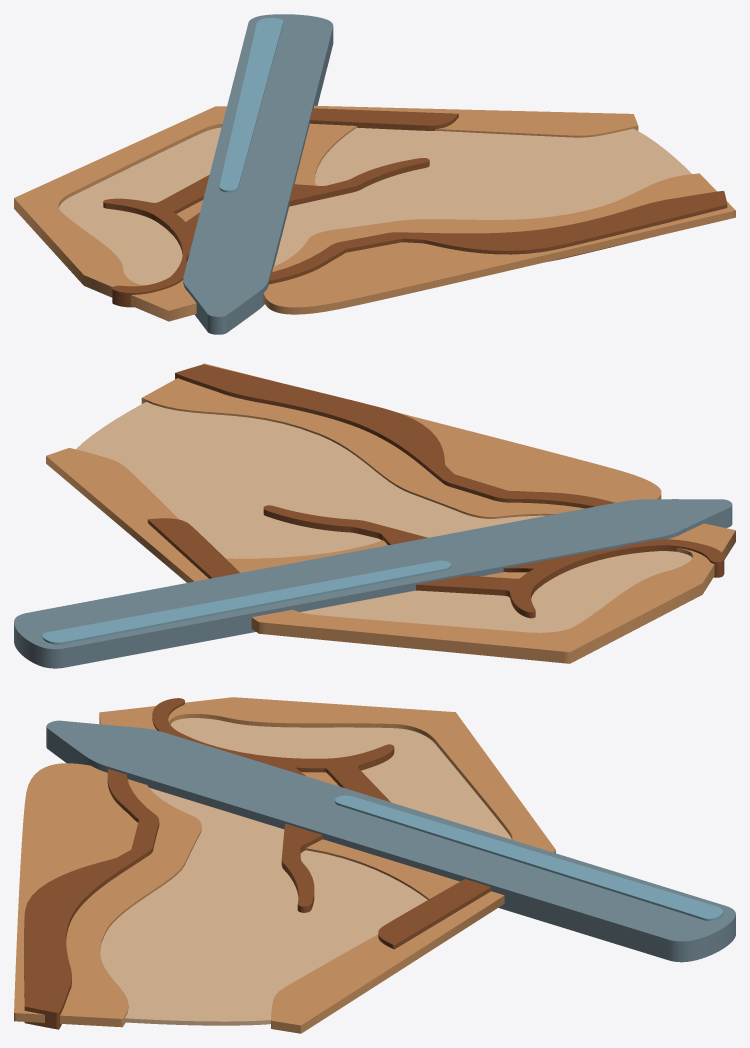
Rendered from emoji_u270d_1f3fc.glb.
3 renders of one model, top to bottom at view 1: azimuth 30°, elevation 25°; view 2: azimuth 150°, elevation 25°; view 3: azimuth 270°, elevation 25°, orthographic. The views are drawn at different scales.
Parts seen in each view (by area): view 1: emoji_u270d_1f3fc; view 2: emoji_u270d_1f3fc; view 3: emoji_u270d_1f3fc.
Part boxes in pixels (left/top/right/bottom): emoji_u270d_1f3fc: left=14, top=14, right=735, bottom=334; emoji_u270d_1f3fc: left=14, top=363, right=735, bottom=668; emoji_u270d_1f3fc: left=14, top=697, right=735, bottom=1033.
Size of the model in its own units: 0.0338 by 0.0012 by 0.0316.
